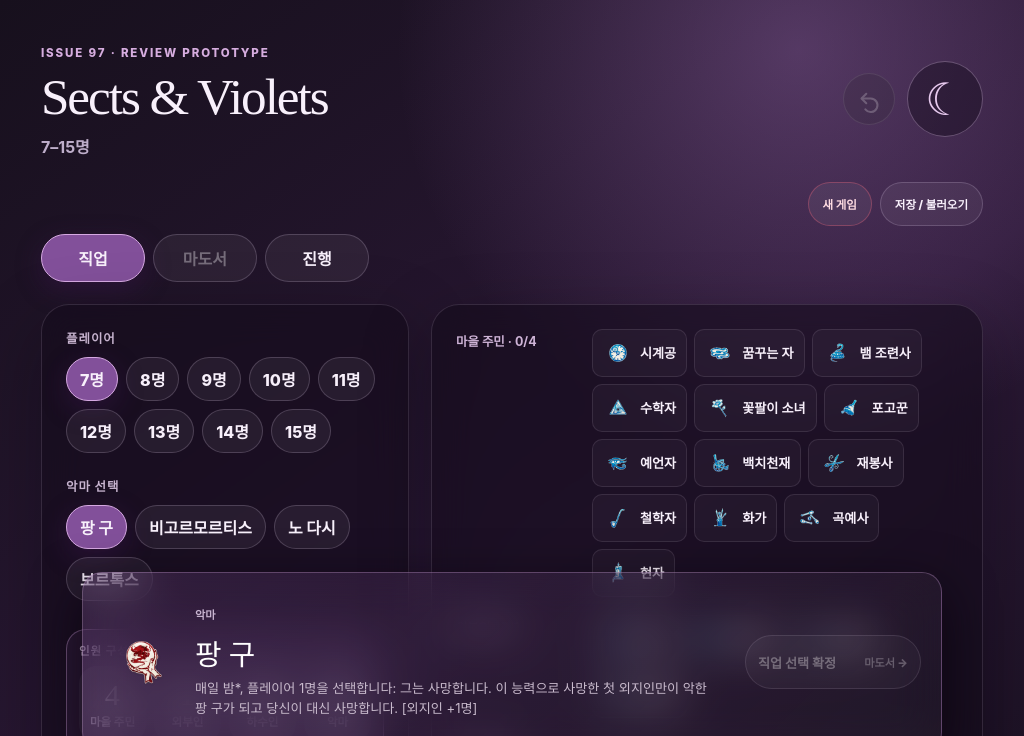
places Save and Load at the far edge as a separate surface
Click the button "저장 / 불러오기" at (931, 204), box [880,182,983,226]
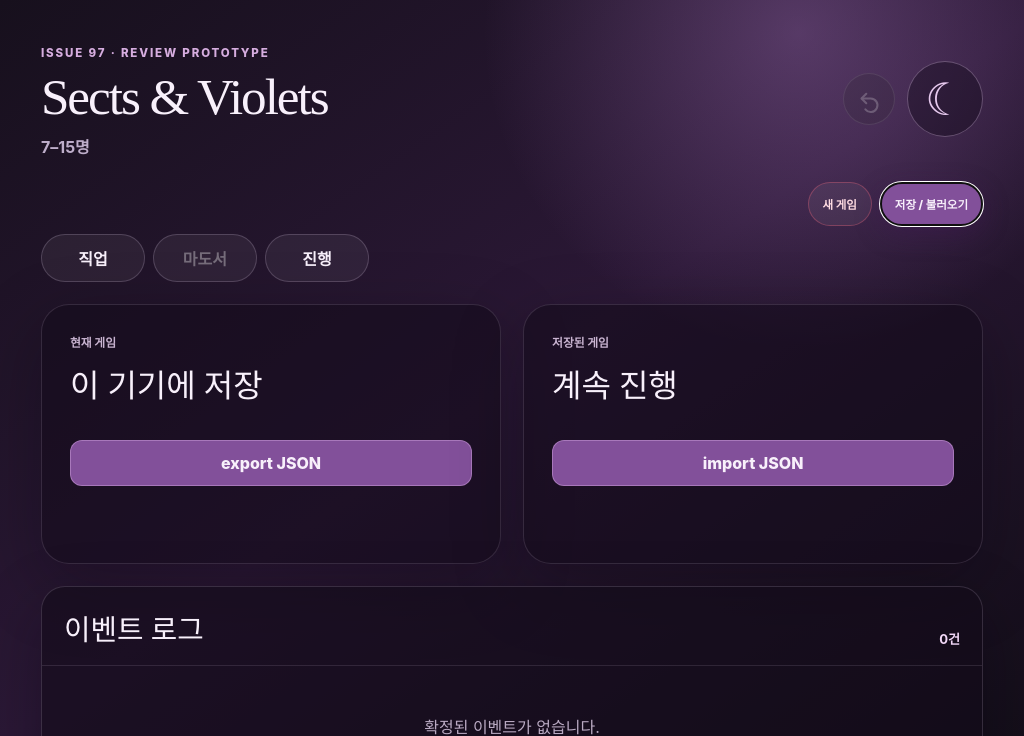
Expected: the button "export JSON" is shown, [70,440,472,486]
Expected: the button "import JSON" is shown, [552,440,954,486]
